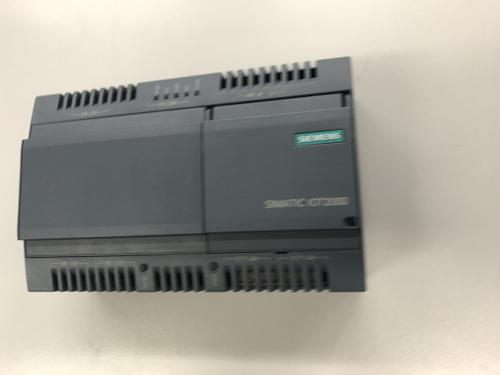device: (17, 56, 367, 293)
